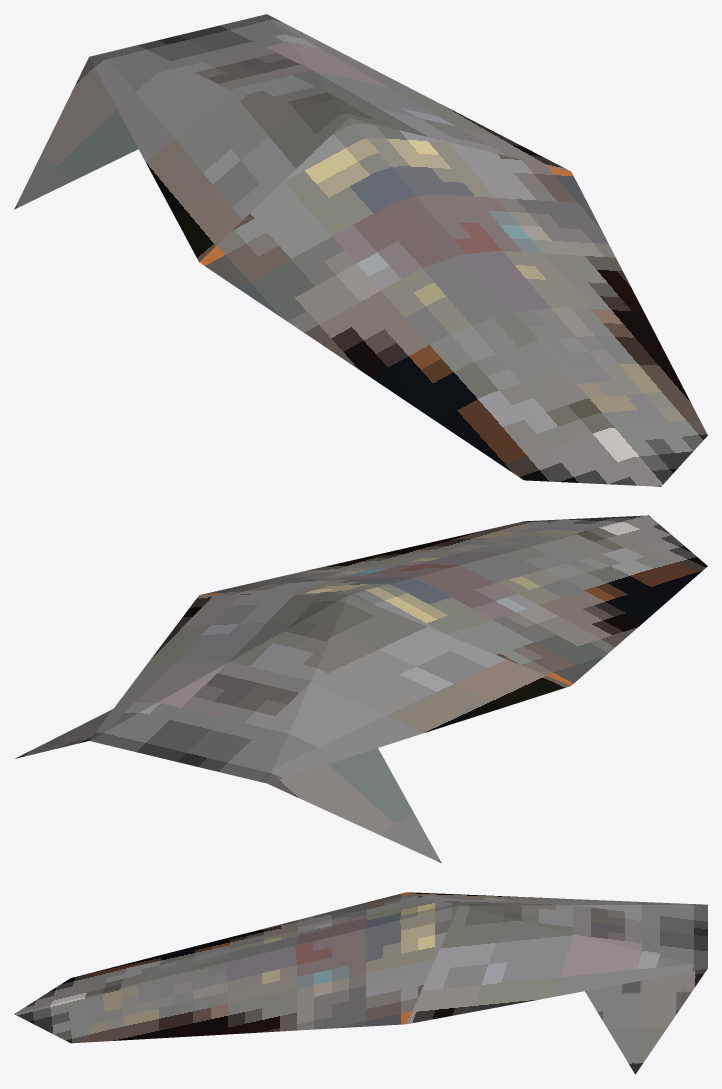
3 renders of one model, top to bottom at view 1: azimuth 30°, elevation 25°; view 2: azimuth 150°, elevation 25°; view 3: azimuth 270°, elevation 25°, orthographic. The views are drawn at different scales.
Parts seen in each view (by area): view 1: LOD2_Texture; view 2: LOD2_Texture; view 3: LOD2_Texture.
Part boxes in pixels (x1,y1,x2,y2): LOD2_Texture: [14, 14, 707, 486]; LOD2_Texture: [15, 515, 707, 863]; LOD2_Texture: [14, 892, 707, 1074].
Size of the model in its own units: 13.51 by 4.98 by 26.08.
